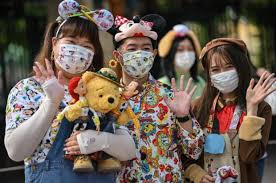with_mask: (50, 32, 94, 74), (114, 39, 158, 77), (209, 58, 240, 94), (173, 40, 197, 72)
